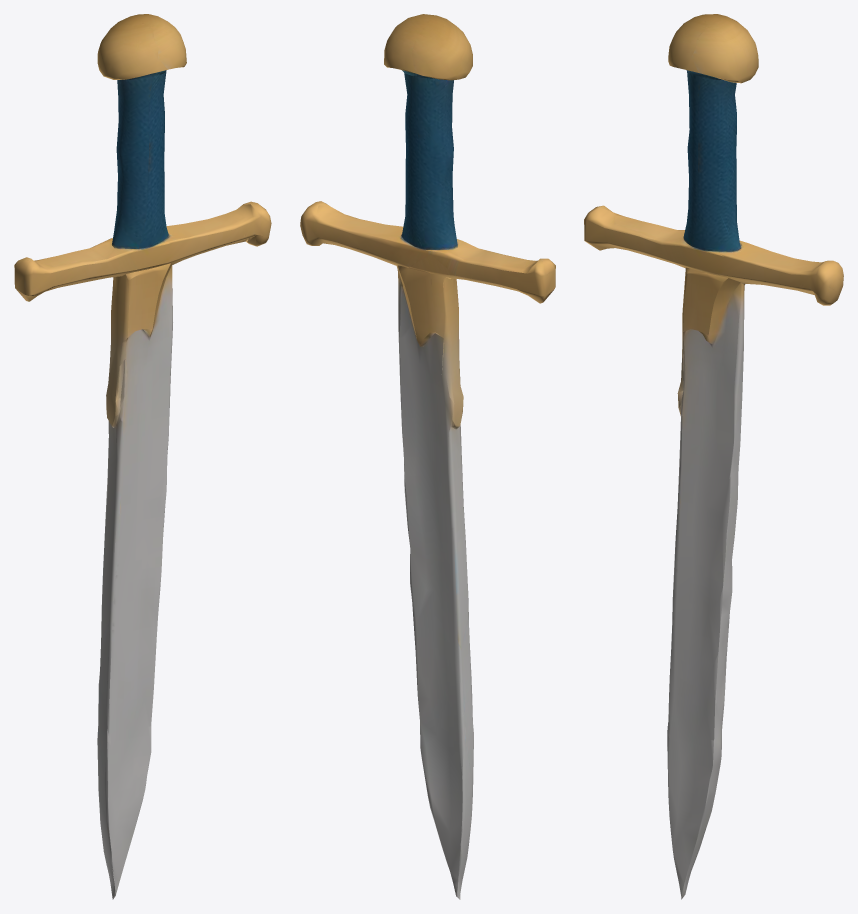
Rendered from sword.glb.
3 views of the same model, side by side, from view 1: azimuth 30°, elevation 25°; view 2: azimuth 150°, elevation 25°; view 3: azimuth 330°, elevation 25° (orthographic).
Visible parts, largest first — view 1: model; view 2: model; view 3: model.
Part boxes in pixels (x1,y1,x2,y2): model: [14, 14, 271, 899]; model: [300, 14, 555, 899]; model: [584, 14, 843, 899].
Size of the model in its own units: 0.559 by 1.9 by 0.1612.
Materials: 1 (1 with a texture image).
